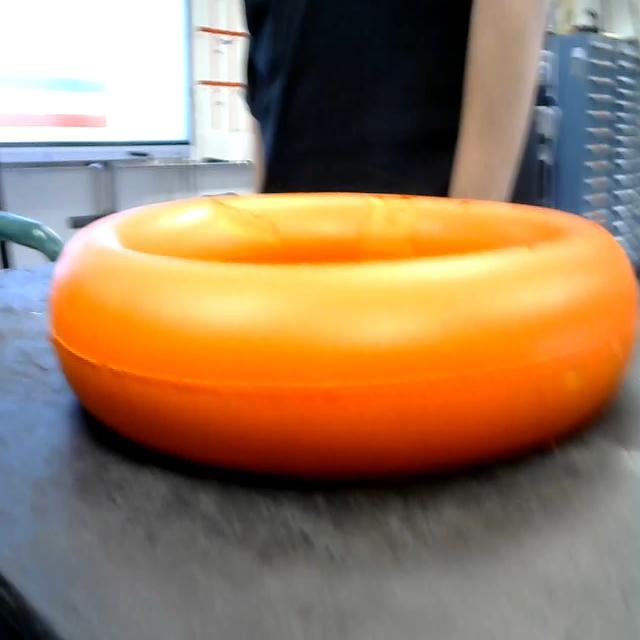note: (42, 181, 640, 469)
